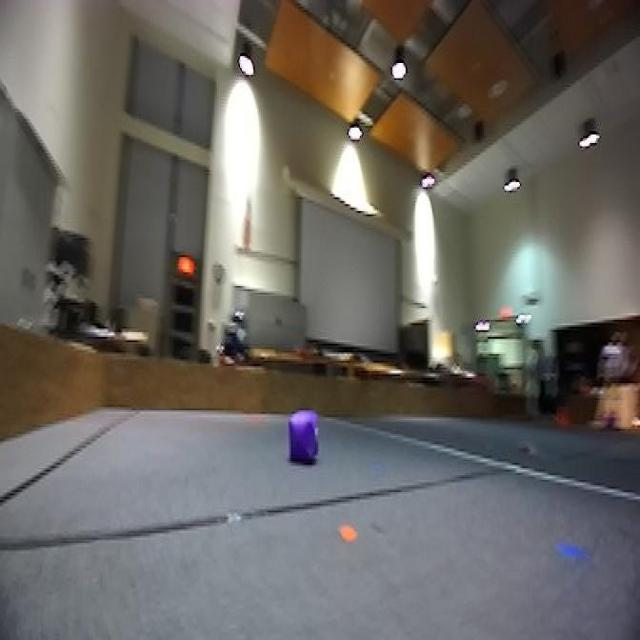frc_cube: (286, 408, 321, 466)
